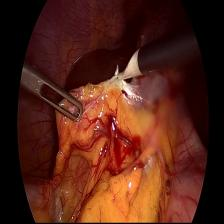Grasper: (20, 64, 85, 125)
Hook: (112, 47, 144, 87)
